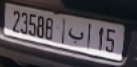1: (98, 27, 103, 51)
2: (12, 9, 20, 32)
3: (20, 12, 28, 34)
5: (106, 29, 116, 53), (28, 13, 37, 36)
8: (44, 18, 54, 39), (36, 15, 45, 38)
b: (67, 26, 84, 44)
